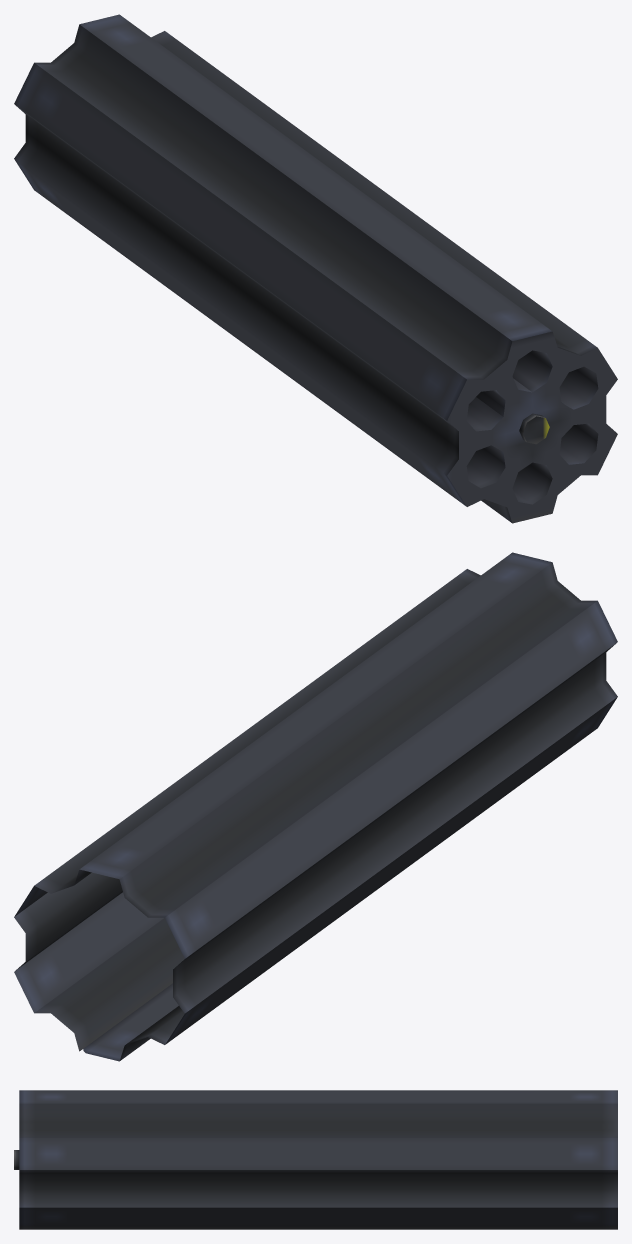
Rendered from pepperbox_cylinder.obj.
The picture shows the model from 3 angles, top to bottom: view 1: azimuth 30°, elevation 25°; view 2: azimuth 150°, elevation 25°; view 3: azimuth 270°, elevation 25°; orthographic projection. The views are drawn at different scales.
Visible parts, largest first — view 1: cylinder; view 2: cylinder; view 3: cylinder.
Boxes of the visible parts, x1,y1,x2,y2 form: cylinder: [14, 14, 617, 523]; cylinder: [14, 552, 617, 1061]; cylinder: [14, 1090, 617, 1229].
Bounding box in the file's own units: 1.59 × 1.62 × 7.06.
